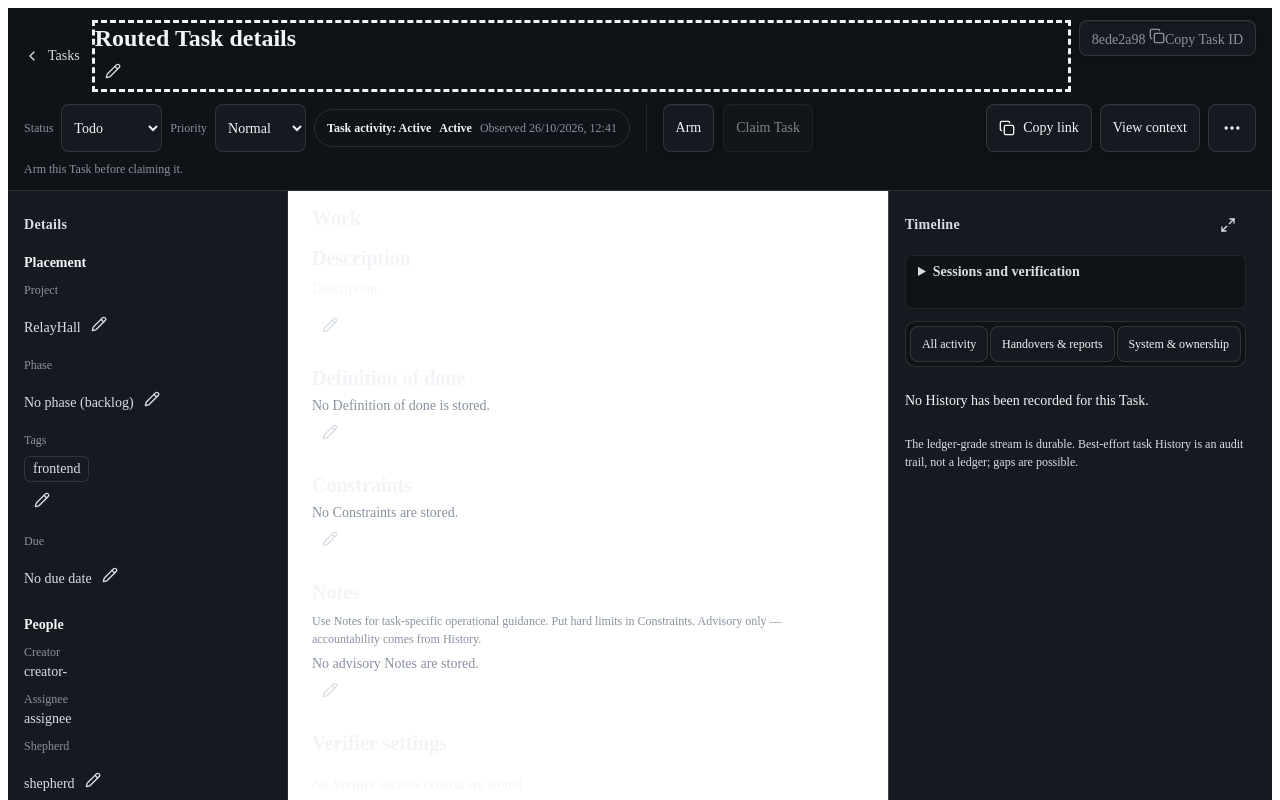
Test: TaskDetailPage routing › edits the Task title as a scoped header field
Expected: the heading "Routed Task details" is shown, [95, 25, 296, 51]
Click the button named "Edit title" at (113, 71), box [95, 53, 131, 89]
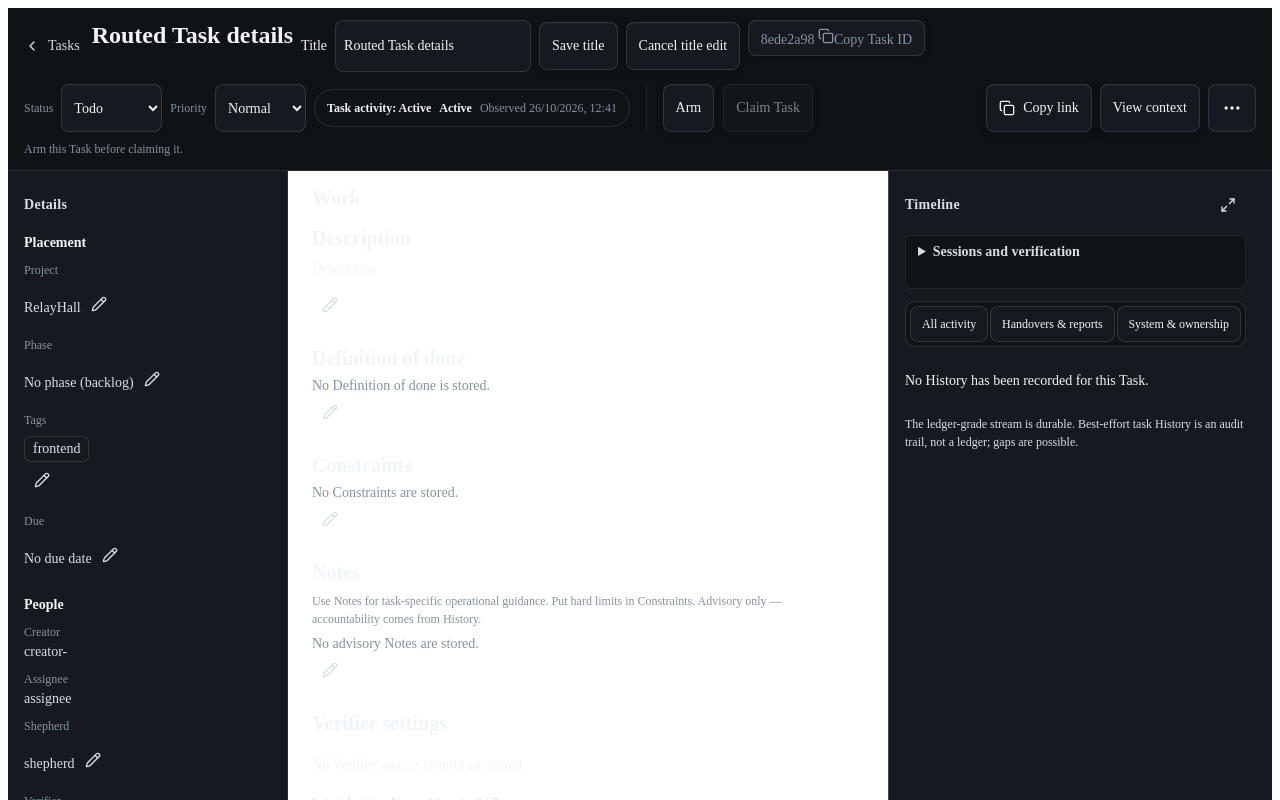
Replace the text in the field labelled "Title" with "Updated routed title" at (433, 46), box [335, 20, 531, 72]
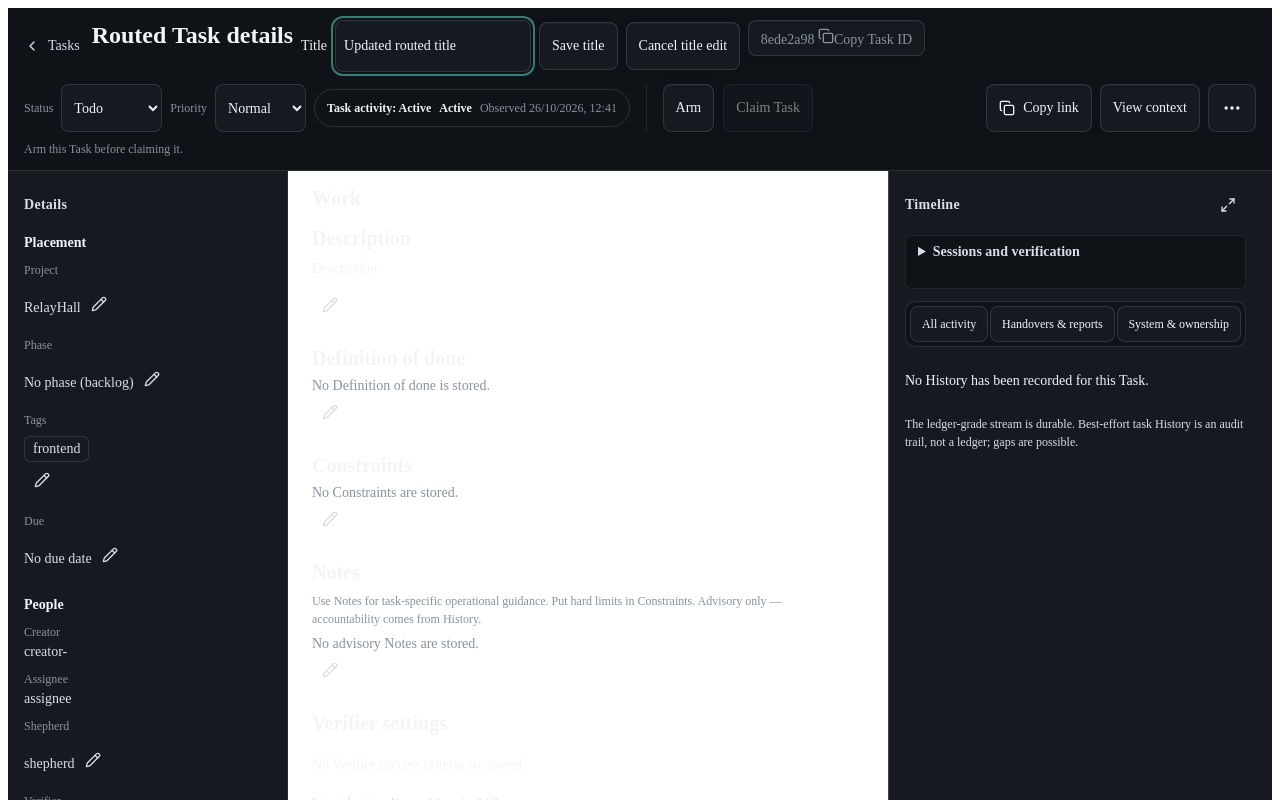
Click the button "Save title" at (578, 46), box [539, 22, 618, 70]
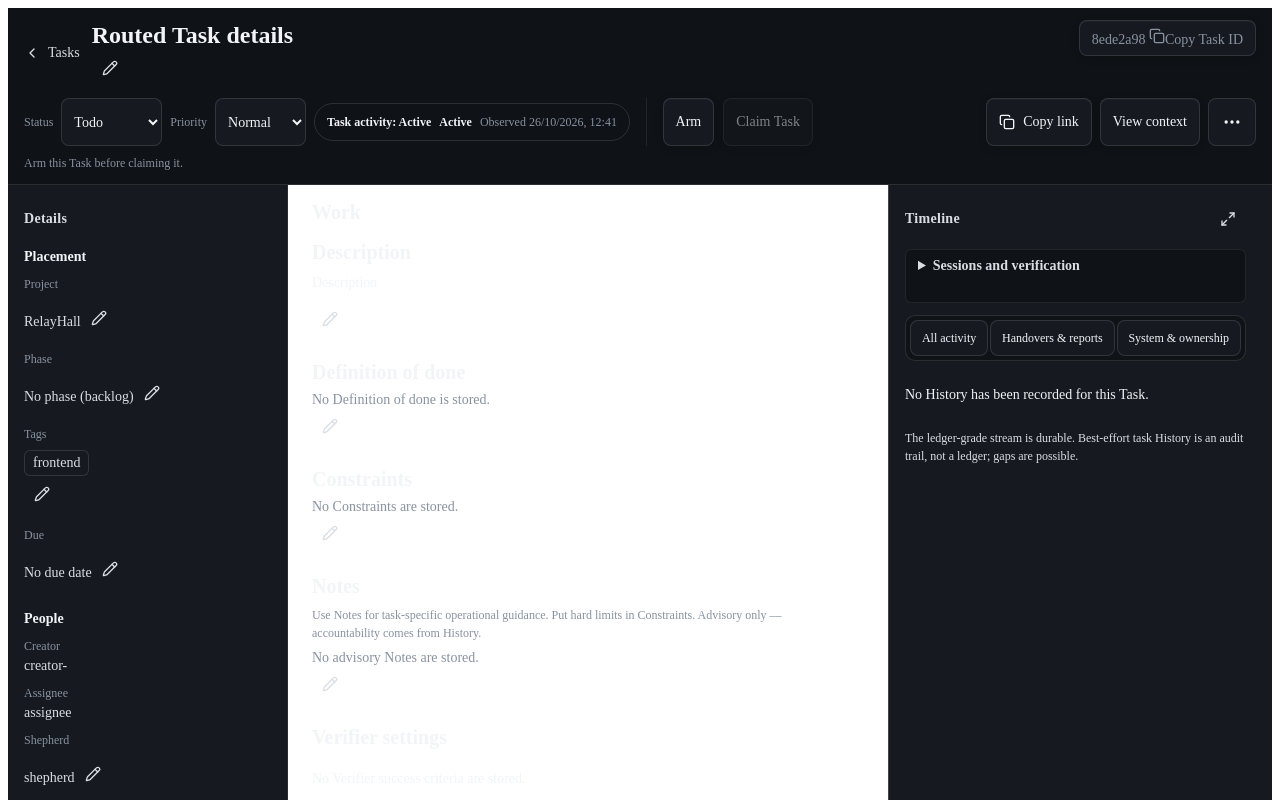
Expected: the label "Title" is gone
